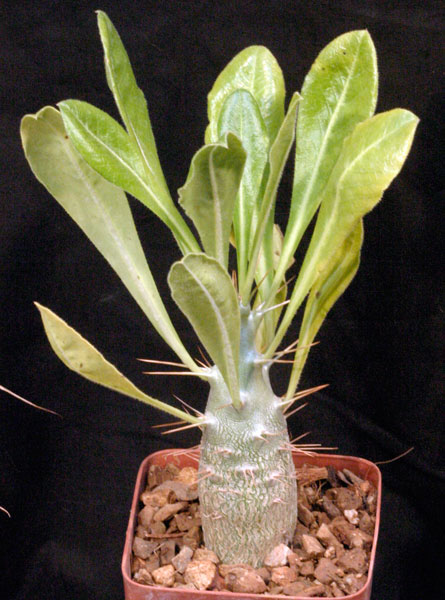Pachypodium saundersii: (37, 11, 408, 569)
